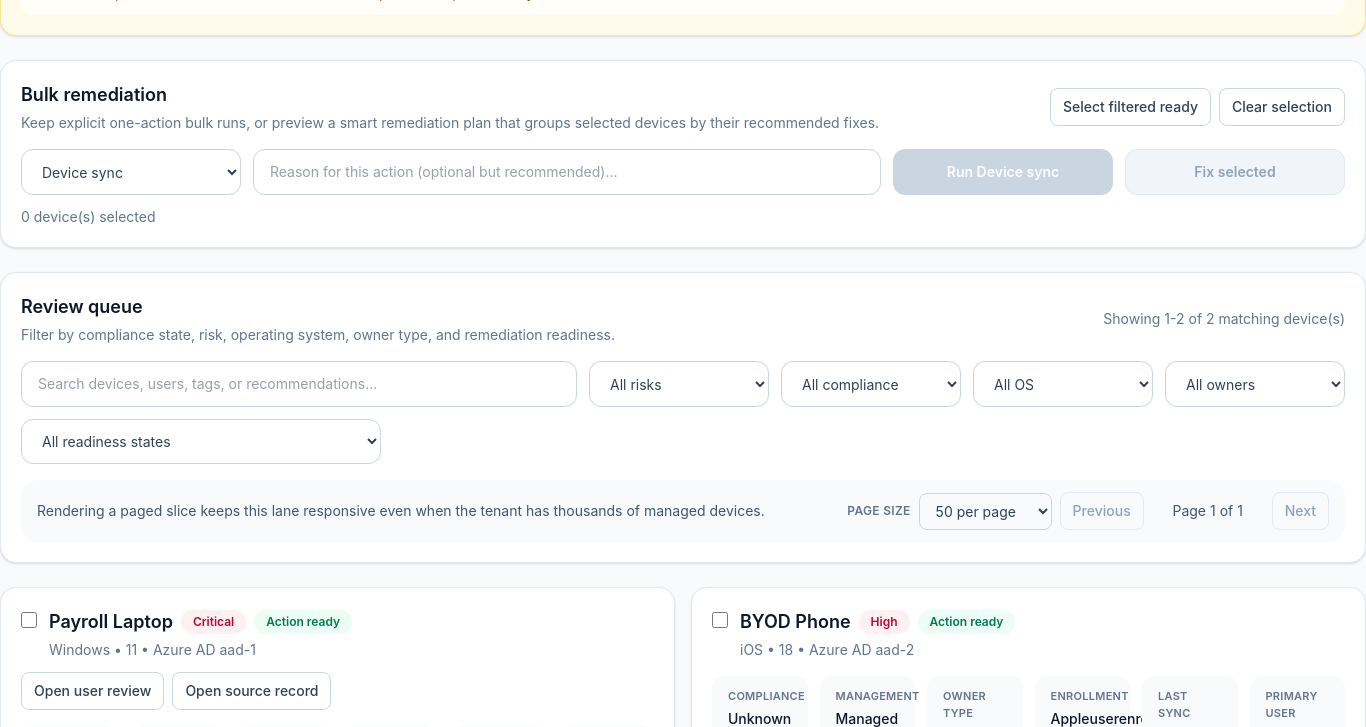
Scenario: AzureSecurityDeviceCompliancePage › queues an explicit bulk action from the existing toolbar
(page scrolled)
Expected: the heading "Review queue" is shown, x1=21 y1=296 x2=143 y2=317
Type "Payroll" into the search field with placeholder "Search devices, users, tags, or recommendations..." at {"x": 299, "y": 384}, box x1=21 y1=361 x2=577 y2=407
(page scrolled)
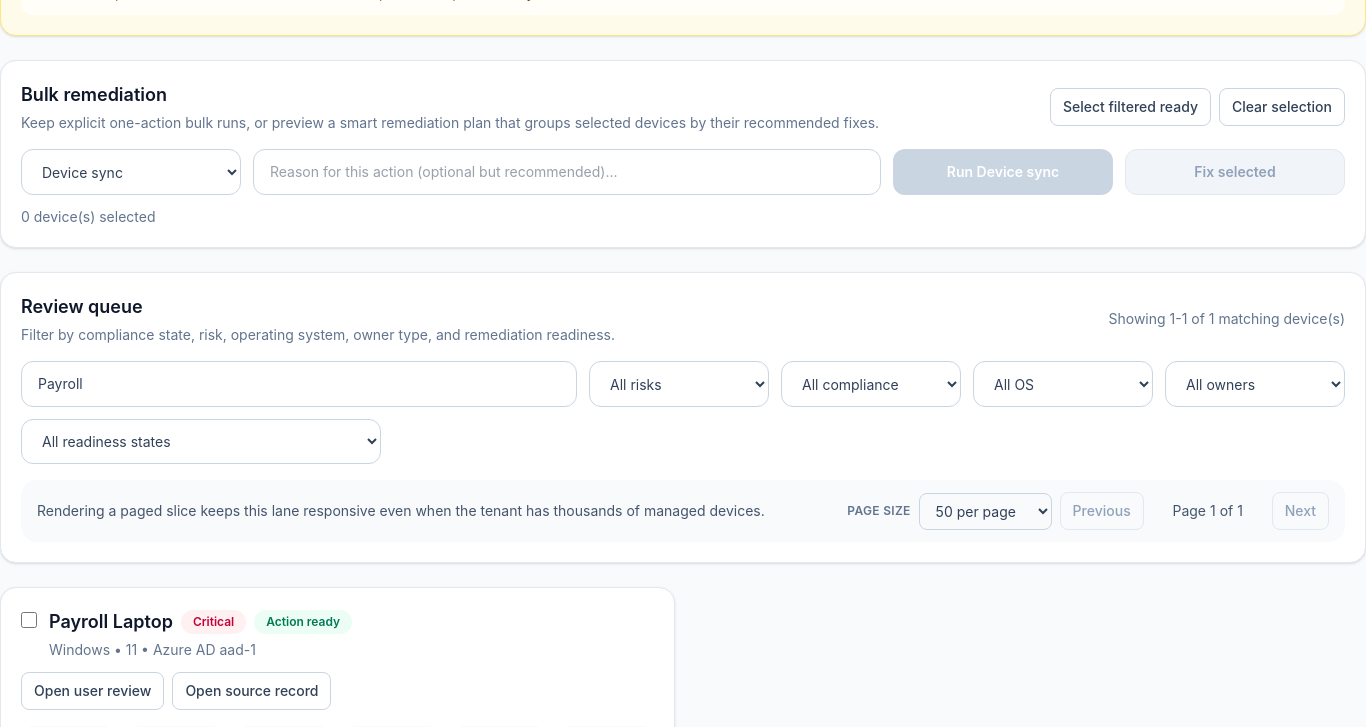
Click the checkbox named "Select Payroll Laptop" at {"x": 29, "y": 620}, box x1=21 y1=612 x2=37 y2=628
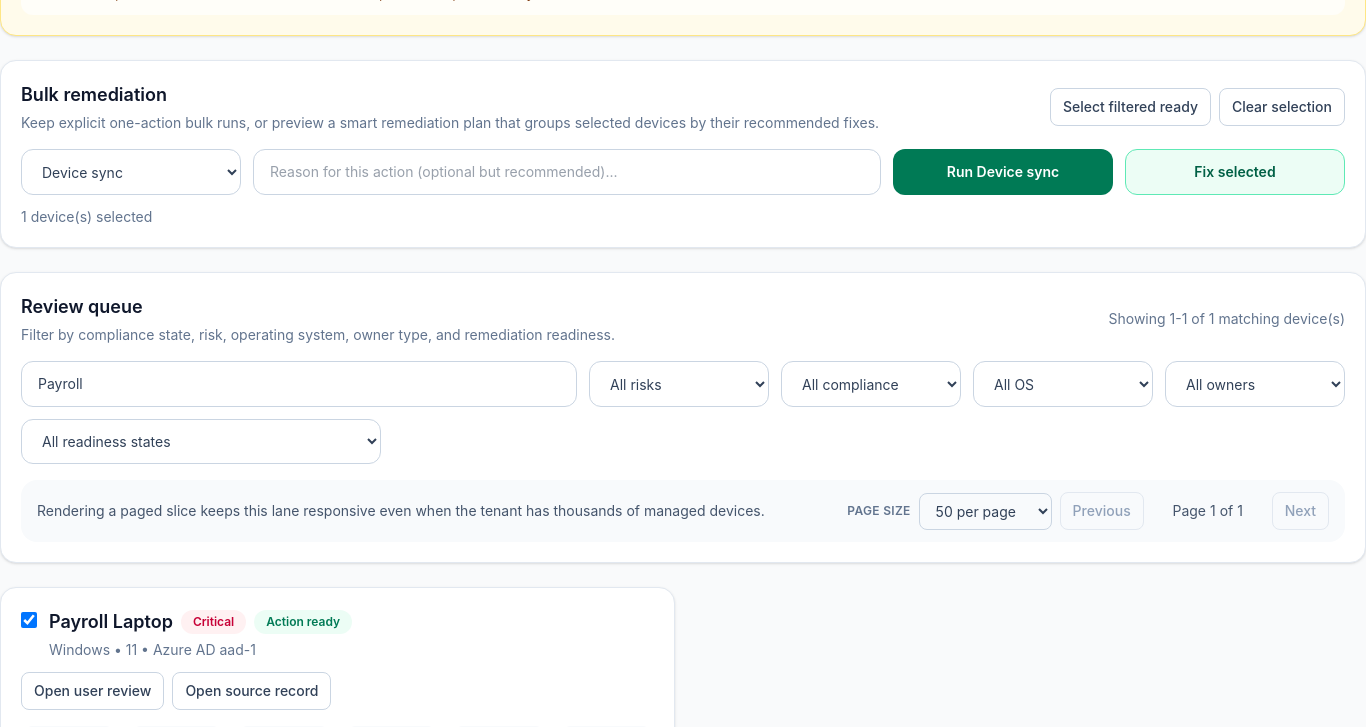
Type "Compliance drift" into the field with placeholder "Reason for this action (optional but recommended)..." at {"x": 567, "y": 172}, box x1=253 y1=149 x2=881 y2=195
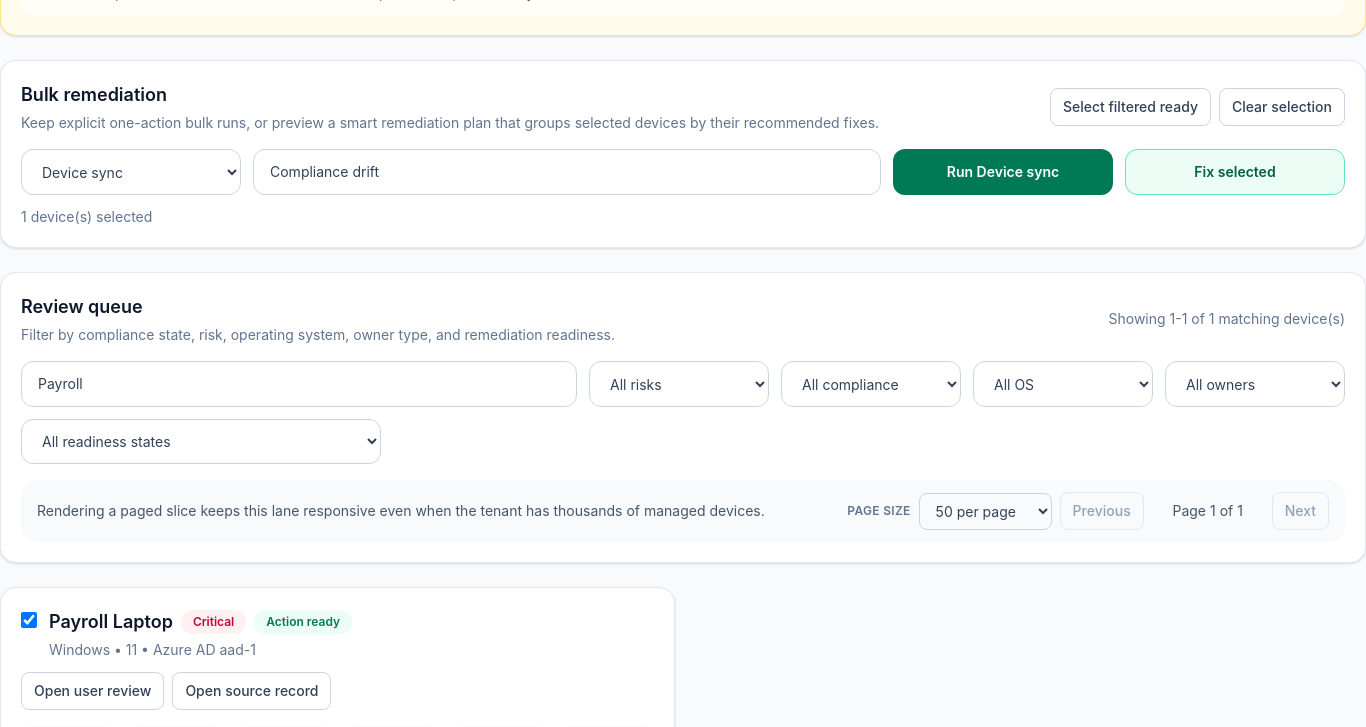
Click the button "Run Device sync" at {"x": 1003, "y": 172}, box x1=893 y1=149 x2=1113 y2=195
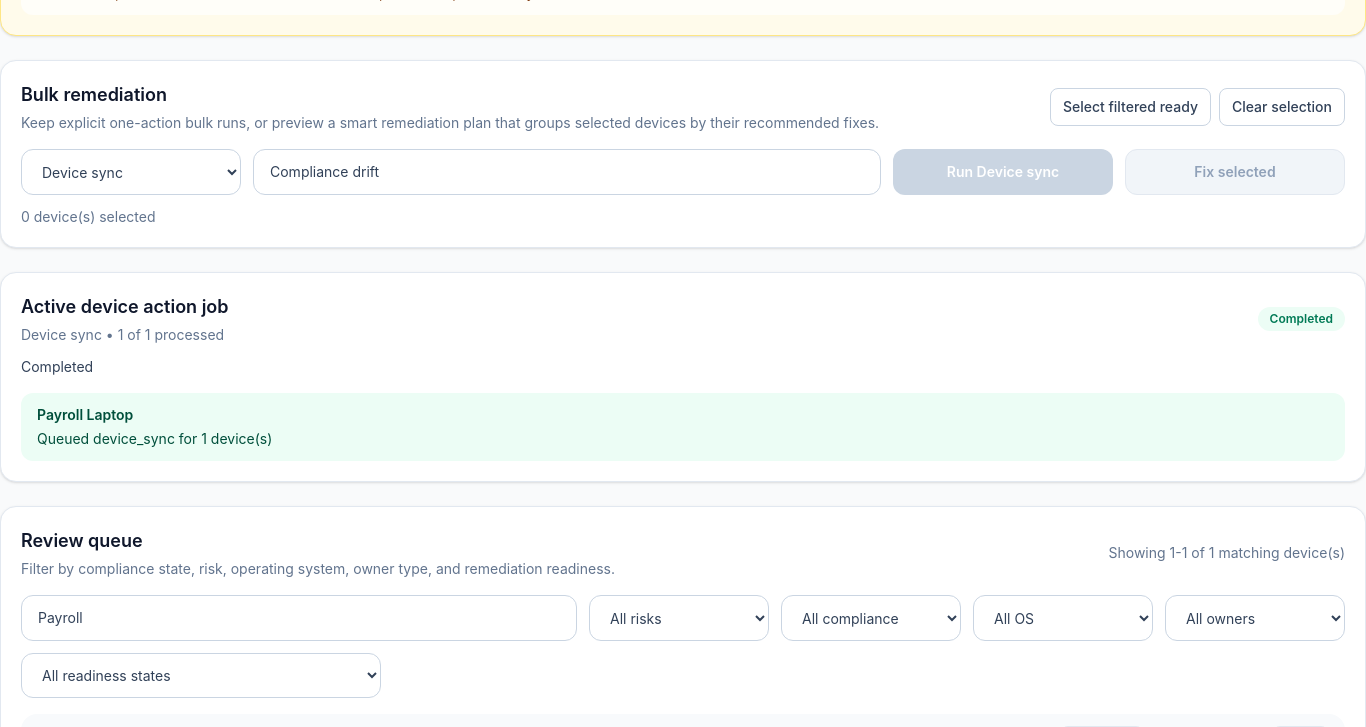
Result: the heading "Active device action job" is shown at x1=21 y1=293 x2=229 y2=321
Result: the text "Queued device_sync for 1 device(s)" is shown at x1=37 y1=430 x2=272 y2=447
